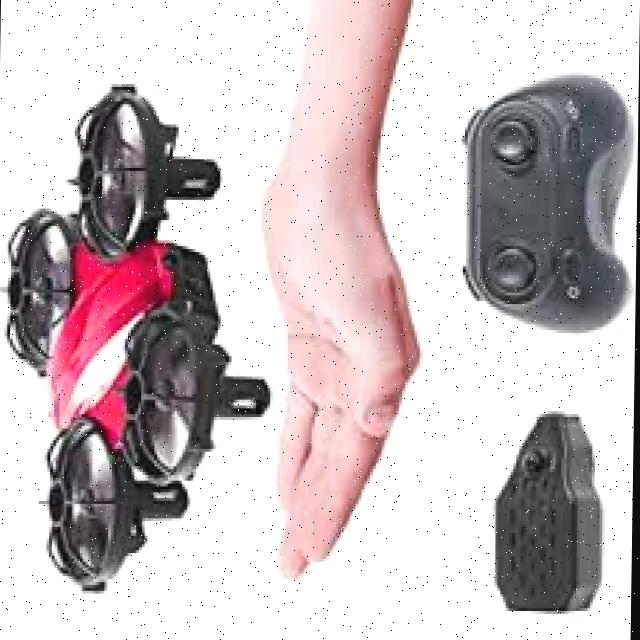drone: (0, 69, 281, 616)
